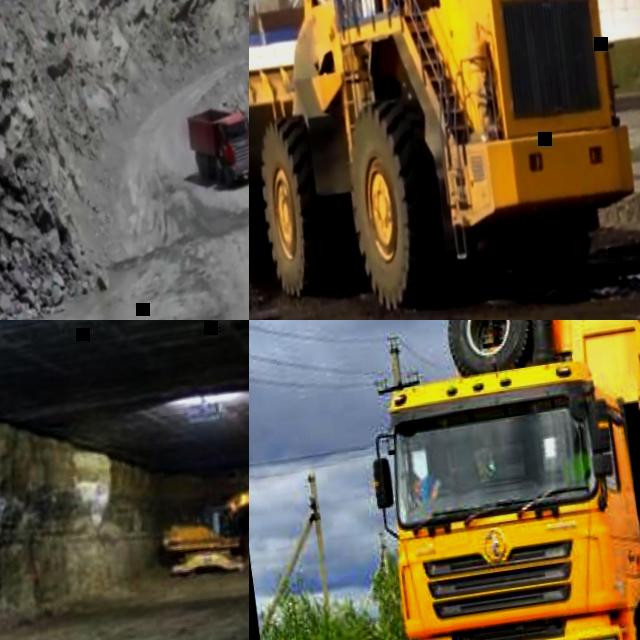machinery: (249, 0, 640, 320), (335, 320, 640, 640), (152, 467, 249, 581), (184, 95, 249, 192)
person: (401, 463, 450, 506), (556, 432, 594, 487)
vest: (560, 450, 594, 486), (412, 473, 440, 503)
